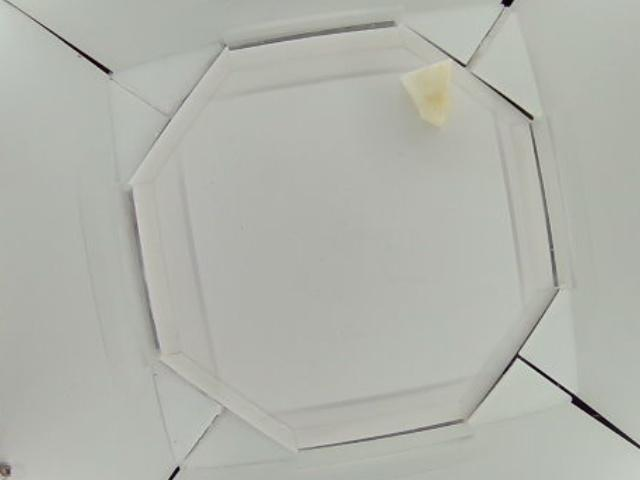Mooli: (401, 58, 457, 127)
